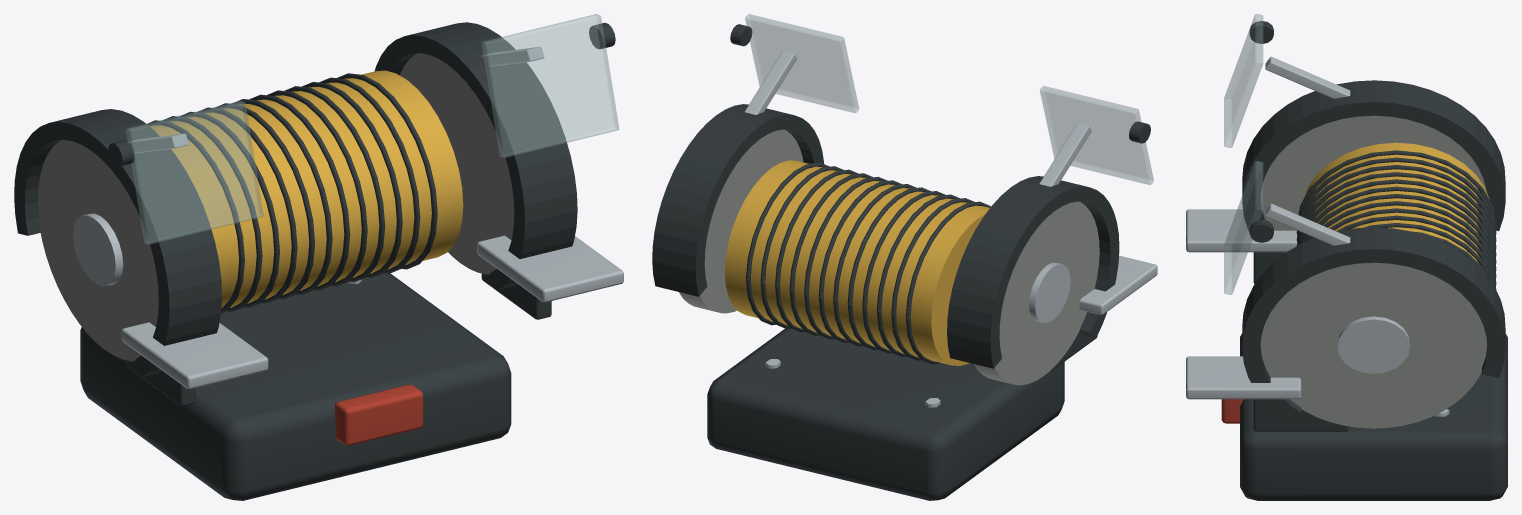
Rendered from garage-bench-grinder.glb.
3 views of the same model, side by side, from view 1: azimuth 30°, elevation 25°; view 2: azimuth 150°, elevation 25°; view 3: azimuth 270°, elevation 25° (orthographic). The views are drawn at different scales.
Parts seen in each view (by area): view 1: garage-bench-grinder authored assembly; view 2: garage-bench-grinder authored assembly; view 3: garage-bench-grinder authored assembly.
Part boxes in pixels (left/top/right/bottom): garage-bench-grinder authored assembly: left=14, top=14, right=623, bottom=500; garage-bench-grinder authored assembly: left=652, top=14, right=1157, bottom=500; garage-bench-grinder authored assembly: left=1186, top=14, right=1507, bottom=500.
Size of the model in its own units: 0.39 by 0.3 by 0.26.
